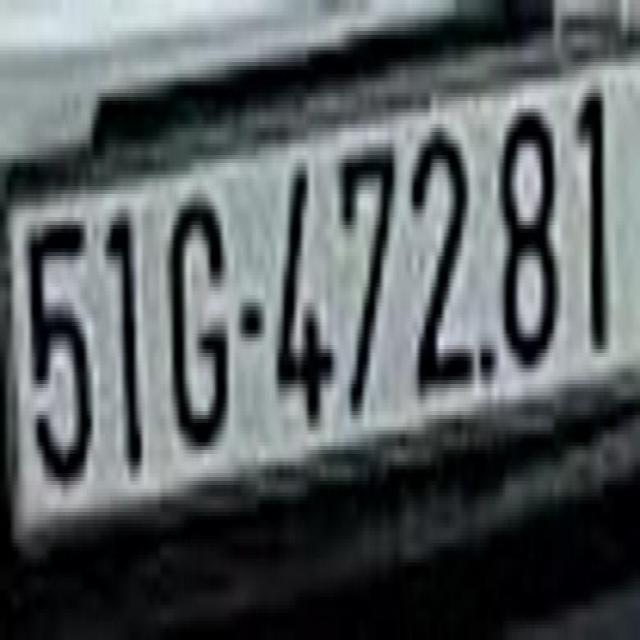1: (102, 194, 148, 481), (576, 59, 615, 372)
2: (406, 85, 478, 384)
4: (278, 132, 331, 442)
5: (26, 194, 95, 493)
7: (333, 124, 398, 423)
8: (500, 74, 560, 384)
G: (170, 178, 230, 458)
